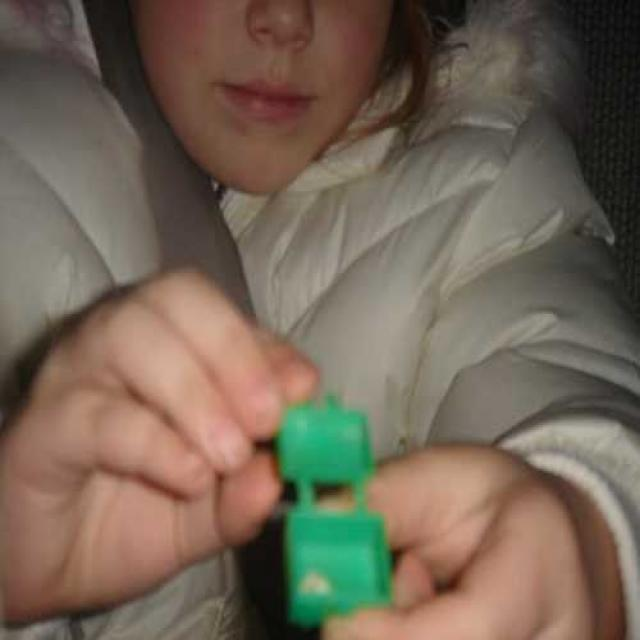seatbelt: (95, 48, 318, 492)
